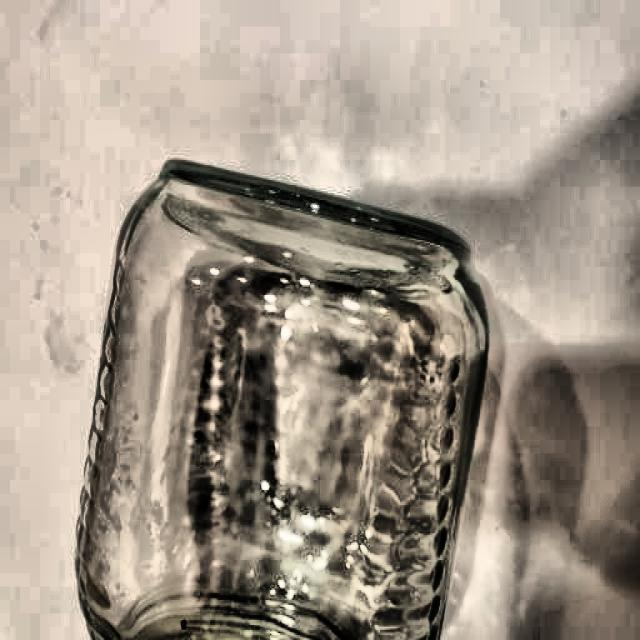glass: (74, 150, 481, 640)
